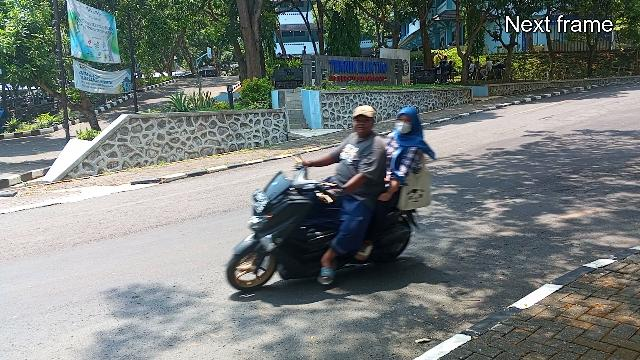motor: (225, 153, 425, 296)
non-helm: (396, 106, 423, 138), (353, 105, 378, 137)
